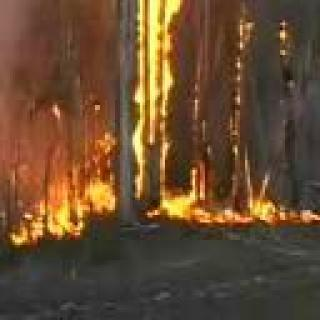fire: (139, 0, 181, 219), (27, 179, 105, 243), (242, 177, 311, 226)
